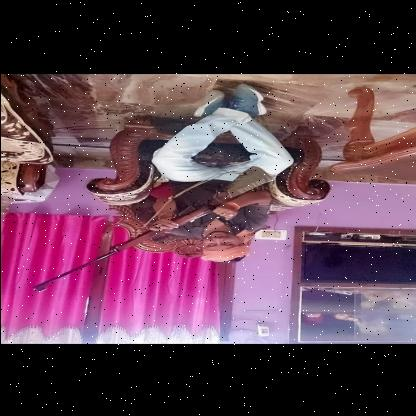rifle: (26, 164, 278, 292)
